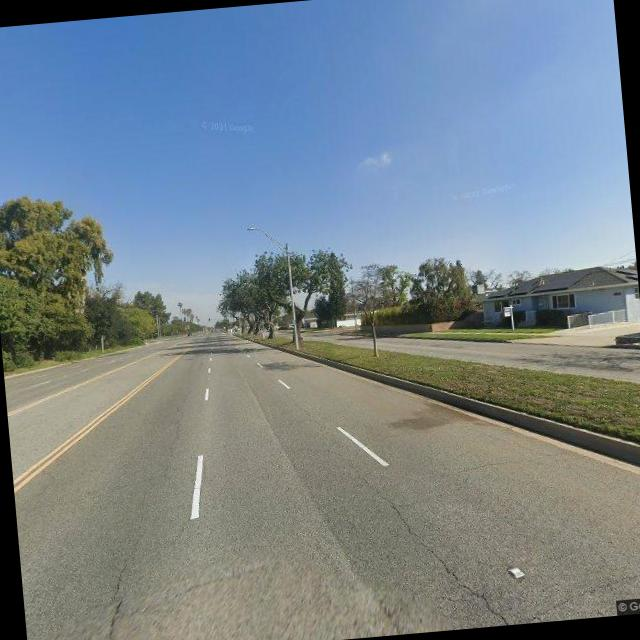pothole: (352, 458, 532, 636), (76, 550, 141, 640), (150, 387, 195, 490)
